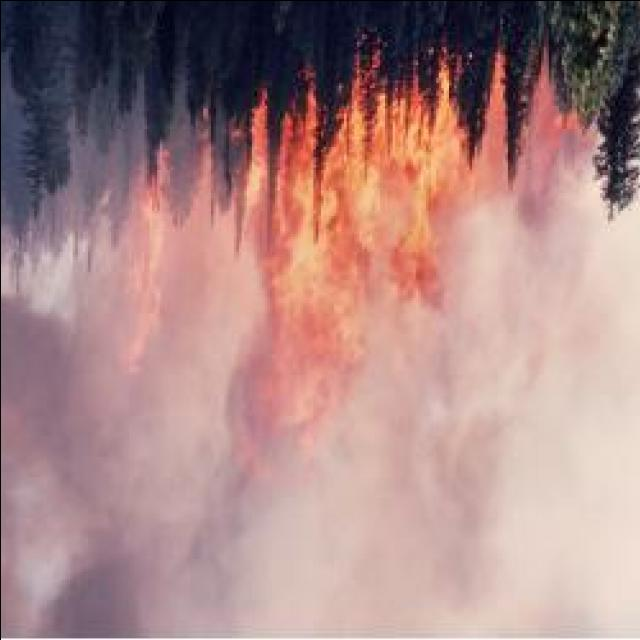fire: (396, 114, 444, 220)
smoke: (0, 287, 118, 510), (0, 525, 179, 635), (192, 406, 290, 542), (396, 402, 492, 522), (506, 152, 562, 248)
